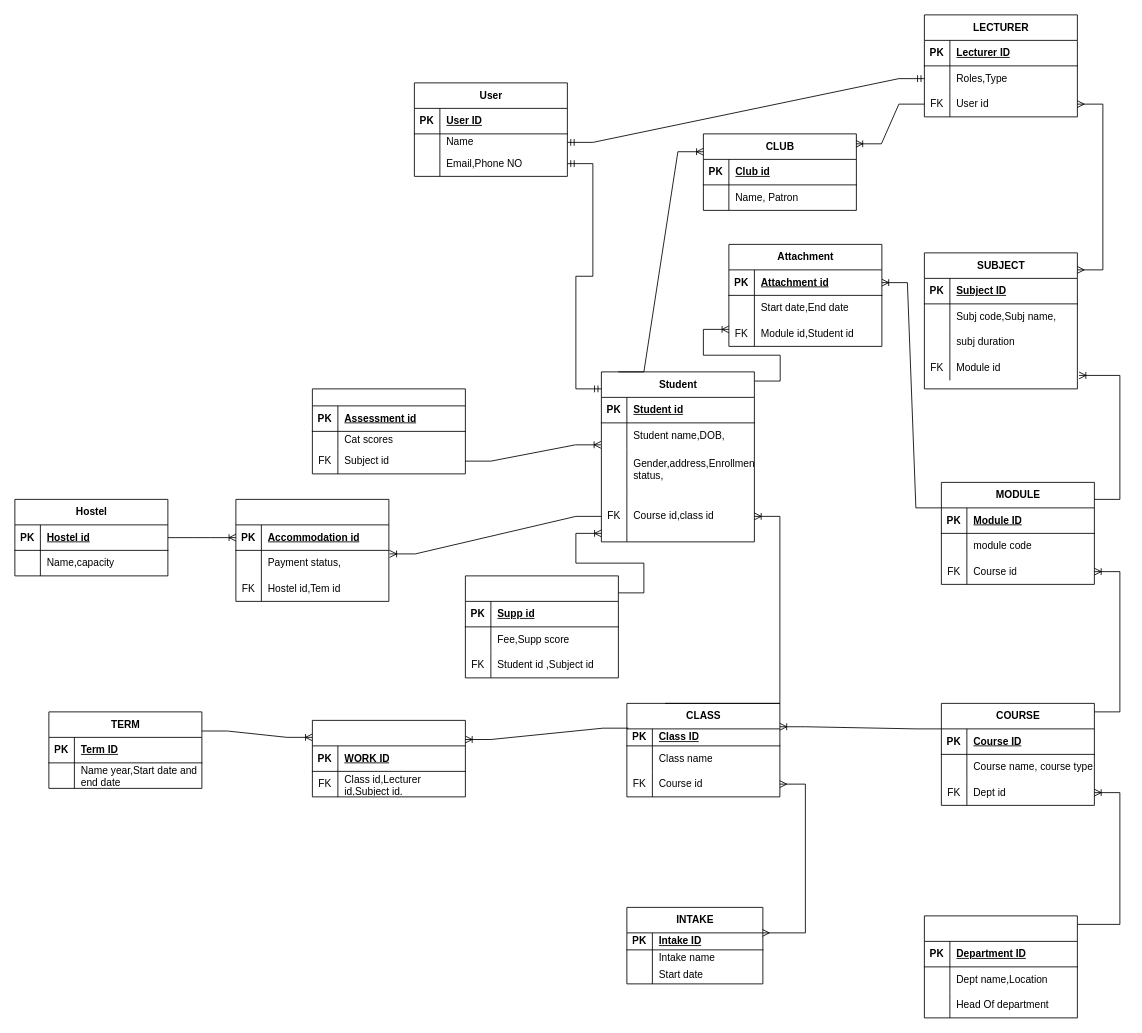
Image size: 1142x1033. Some labels were removed from this diagram. The shapes that lost their labels are listed below. From the top down, each one's box as (x1, y1, x2, y2) in pixels, then its label:
(312, 388, 465, 474): Assesment
(235, 499, 389, 601): Accomodation
(465, 575, 618, 678): Supplementary exam
(312, 720, 465, 797): WORKLOAD
(924, 915, 1077, 1018): DEPARTMENTS
